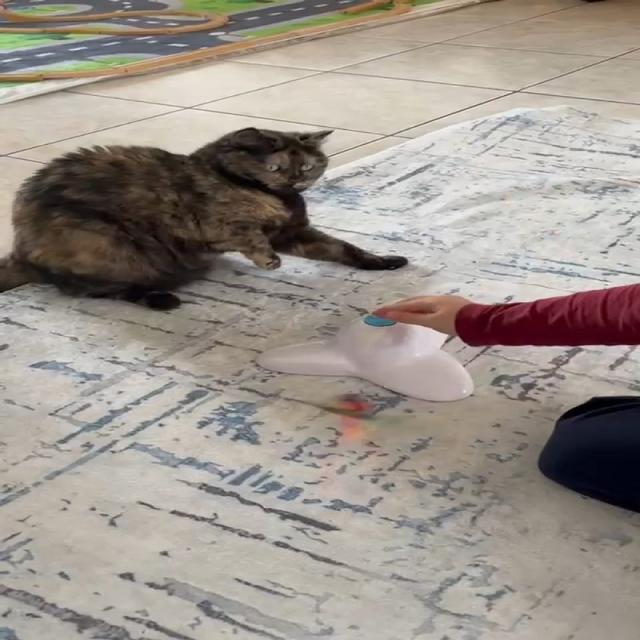authorized: (0, 125, 408, 311)
